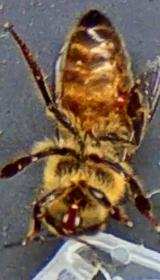varroa_mite: (100, 78, 140, 116)
